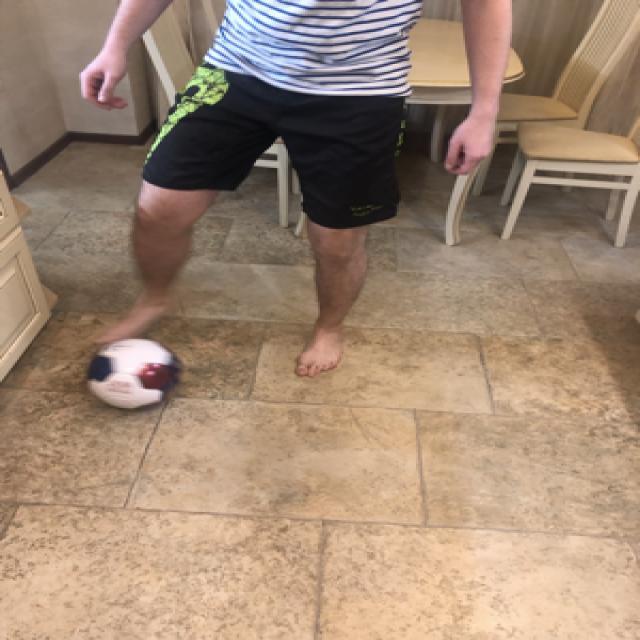soccer_ball: (79, 332, 179, 410)
